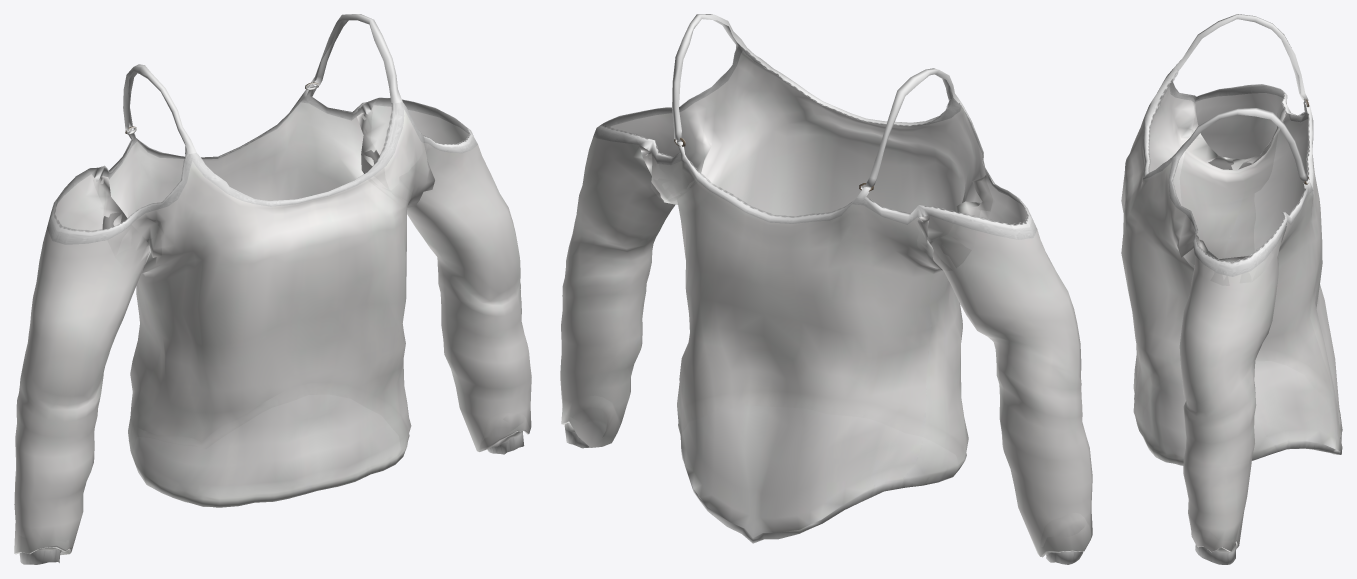
File: punkduck-off-shoulder-long-sleeve-top.glb
The picture shows the model from 3 angles, left to right: view 1: azimuth 30°, elevation 25°; view 2: azimuth 150°, elevation 25°; view 3: azimuth 270°, elevation 25°; orthographic projection. The views are drawn at different scales.
Parts seen in each view (by area): view 1: Human.punkduck_off-shoulder_long-sleeve_top; view 2: Human.punkduck_off-shoulder_long-sleeve_top; view 3: Human.punkduck_off-shoulder_long-sleeve_top.
Boxes of the visible parts, x1,y1,x2,y2 form: Human.punkduck_off-shoulder_long-sleeve_top: (14,14,531,564); Human.punkduck_off-shoulder_long-sleeve_top: (560,14,1092,564); Human.punkduck_off-shoulder_long-sleeve_top: (1121,14,1342,564).
Bounding box in the file's own units: 0.7267 × 0.6173 × 0.3103.
1 material, 1 textured.
